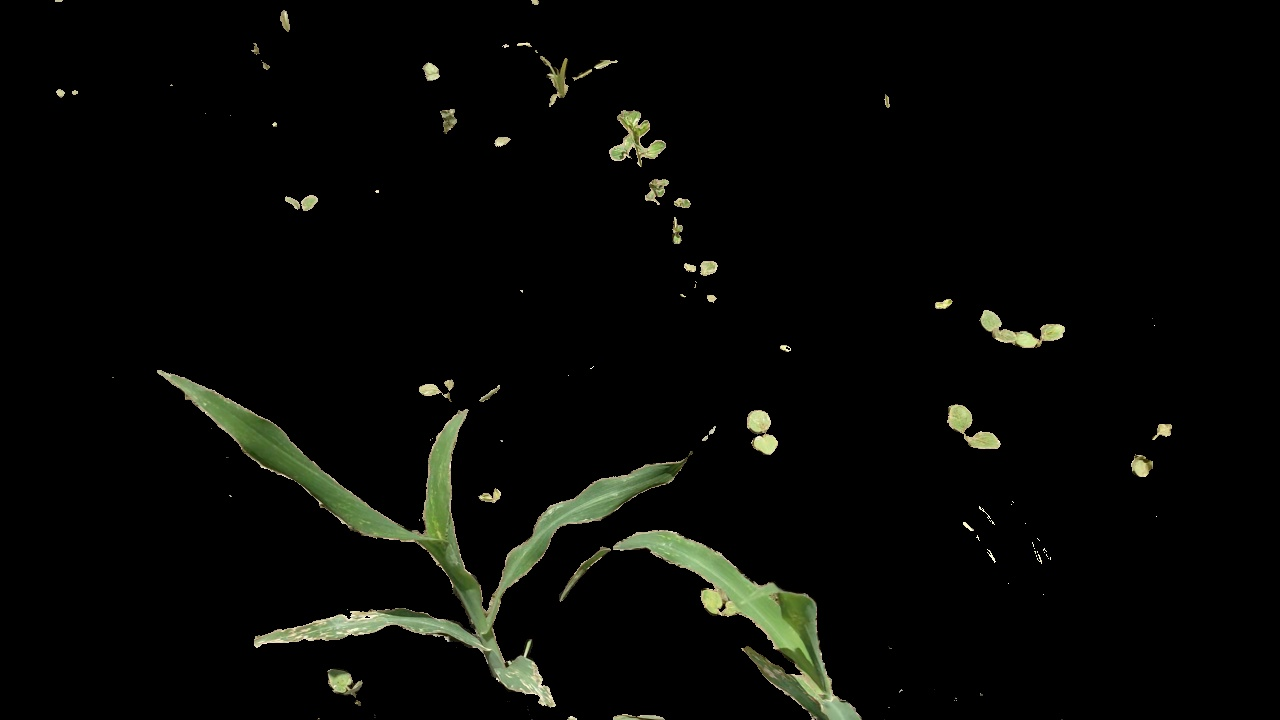crop: (121, 347, 666, 720), (566, 528, 886, 720)
weed: (985, 309, 1079, 352), (613, 107, 673, 168), (741, 402, 789, 472), (1123, 417, 1172, 484), (942, 405, 999, 458), (682, 251, 733, 288), (403, 379, 463, 408), (323, 671, 366, 704), (279, 192, 323, 224), (643, 177, 676, 211), (481, 489, 506, 512)
